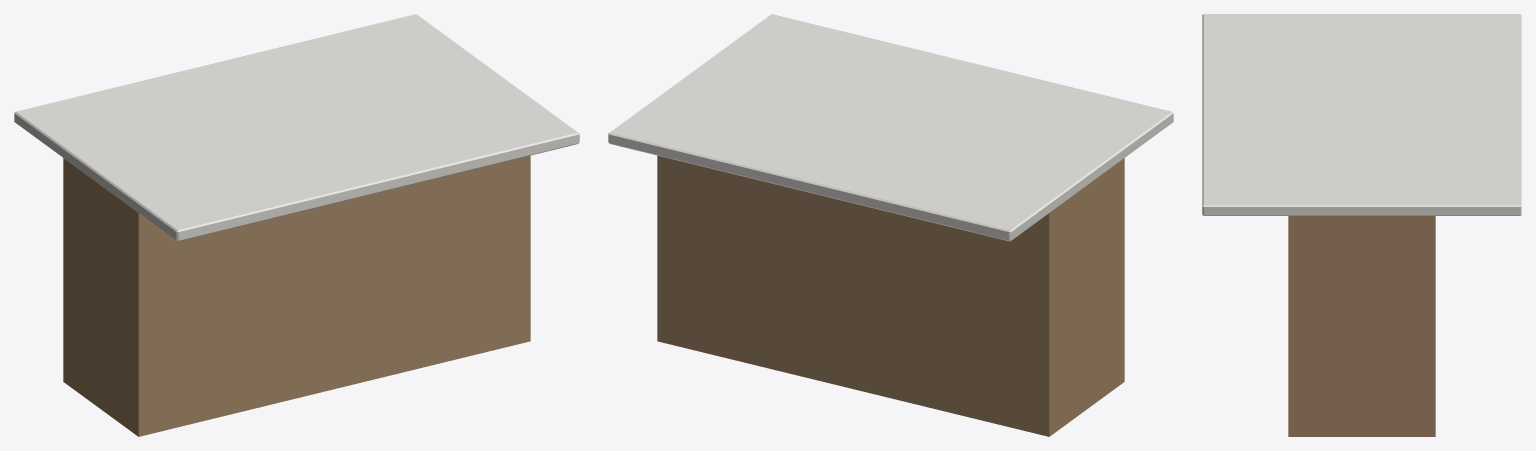
Rendered from Island.fbx.
3 renders of one model, left to right at view 1: azimuth 30°, elevation 25°; view 2: azimuth 150°, elevation 25°; view 3: azimuth 270°, elevation 25°, orthographic. The views are drawn at different scales.
Visible parts, largest first — view 1: IslandBar_Base, IslandBar_Top; view 2: IslandBar_Base, IslandBar_Top; view 3: IslandBar_Top, IslandBar_Base.
Boxes of the visible parts, box(x1,y1,x2,y2) form: IslandBar_Base: box(63, 155, 530, 436); IslandBar_Top: box(14, 14, 579, 241); IslandBar_Base: box(657, 155, 1124, 436); IslandBar_Top: box(608, 14, 1173, 241); IslandBar_Top: box(1202, 14, 1521, 215); IslandBar_Base: box(1288, 216, 1435, 436).
Size of the model in its own units: 185 by 105 by 130.
